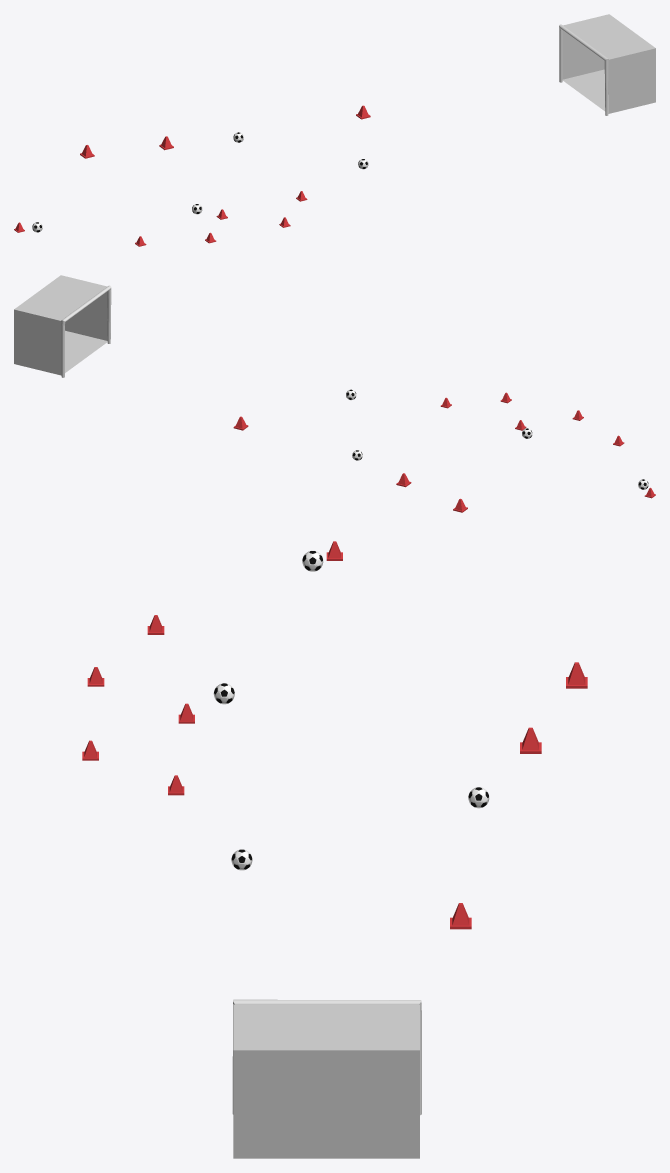
The model's file is terranFoot.fbx.
3 views of the same model, one above another, from view 1: azimuth 30°, elevation 25°; view 2: azimuth 150°, elevation 25°; view 3: azimuth 270°, elevation 25° (orthographic). The views are drawn at different scales.
Visible parts, largest first — view 1: Cube.049, Cylinder.008; view 2: Cube.049, Cylinder.008; view 3: Cube.049, Cylinder.008.
Boxes of the visible parts, <box> form: Cube.049: <box>562,14,655,113</box>; Cylinder.008: <box>559,24,608,115</box>; Cube.049: <box>14,275,107,375</box>; Cylinder.008: <box>61,285,111,377</box>; Cube.049: <box>233,1004,419,1158</box>; Cylinder.008: <box>232,999,421,1115</box>.
Size of what is drawn, in the model's own units: 1679 by 149 by 598.
